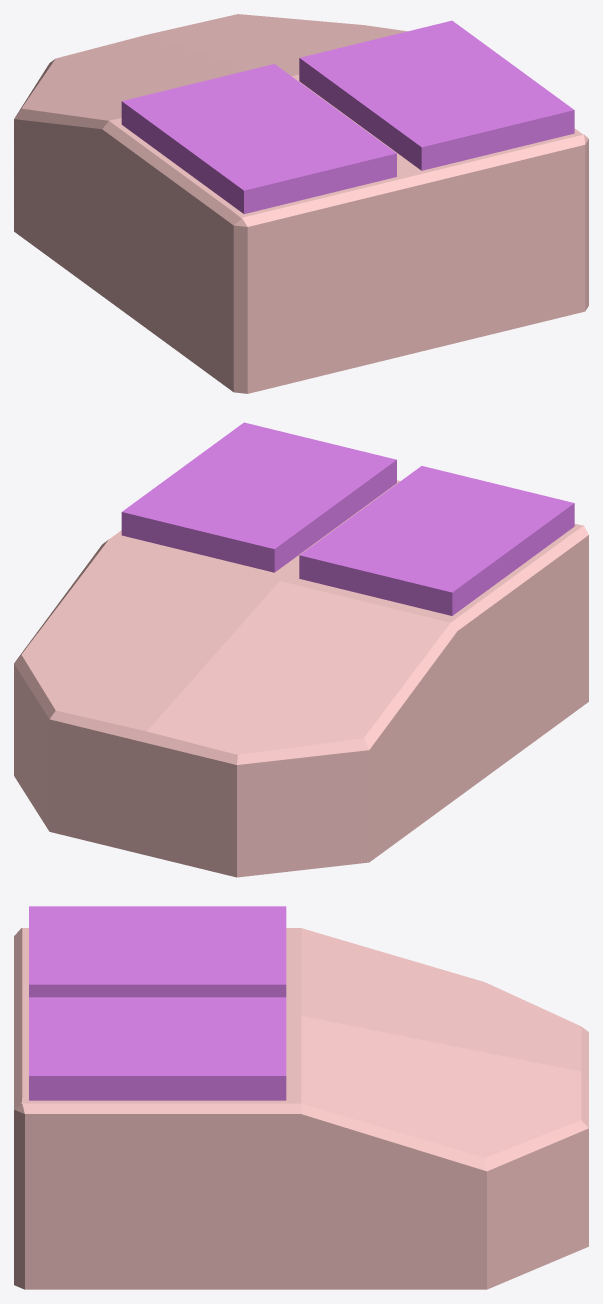
Rendered from Mouse.fbx.
3 renders of one model, top to bottom at view 1: azimuth 30°, elevation 25°; view 2: azimuth 150°, elevation 25°; view 3: azimuth 270°, elevation 25°, orthographic. The views are drawn at different scales.
Visible parts, largest first — view 1: Keyboard_Mouse.001; view 2: Keyboard_Mouse.001; view 3: Keyboard_Mouse.001.
Boxes of the visible parts, x1,y1,x2,y2 form: Keyboard_Mouse.001: (14,14,588,393); Keyboard_Mouse.001: (14,422,588,877); Keyboard_Mouse.001: (14,906,588,1289).
Size of the model in its own units: 4 by 2.12 by 5.33.
